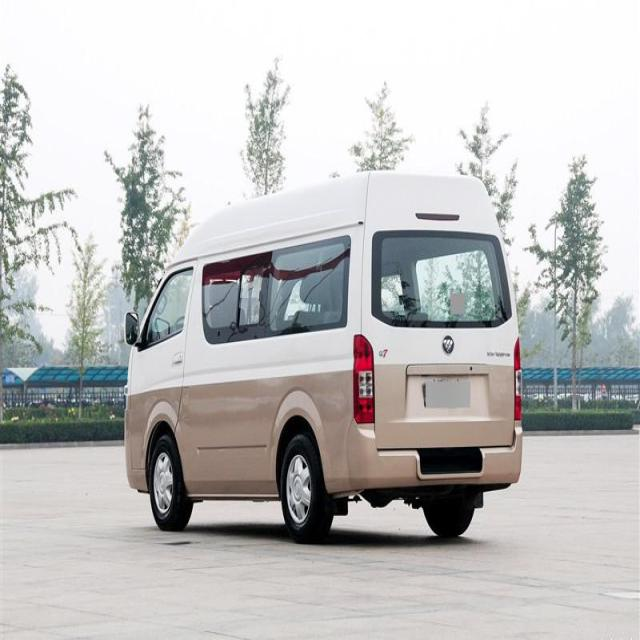back_glass: (371, 228, 512, 328)
back_left_side_light: (353, 333, 376, 429)
back_right_side_light: (514, 334, 522, 421)
door: (204, 240, 297, 490)
front_left_side_door: (128, 254, 201, 473)
front_left_side_mirror: (124, 309, 142, 348)
rear_bumper: (343, 414, 526, 491)
wheel: (279, 432, 334, 542), (147, 432, 194, 532), (419, 493, 476, 536)
